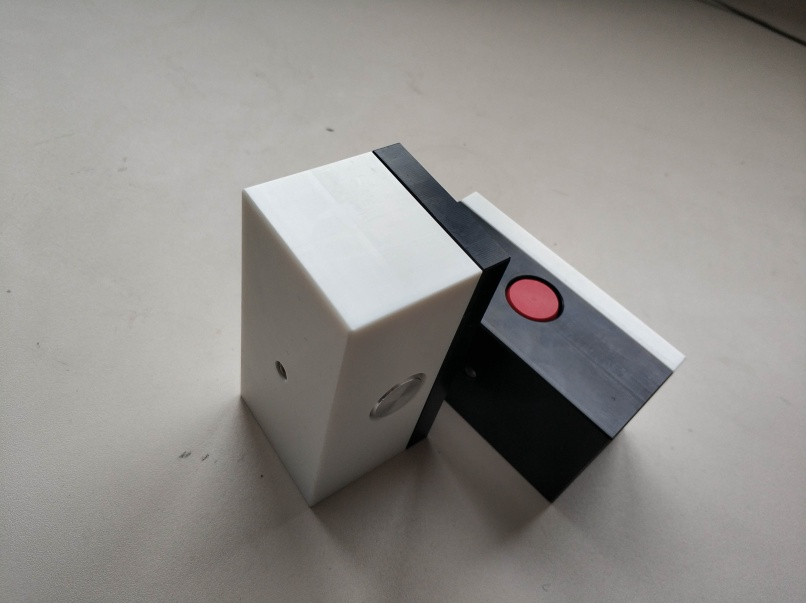black+white+silver: (238, 142, 512, 511)
white+black+red: (445, 187, 687, 506)
